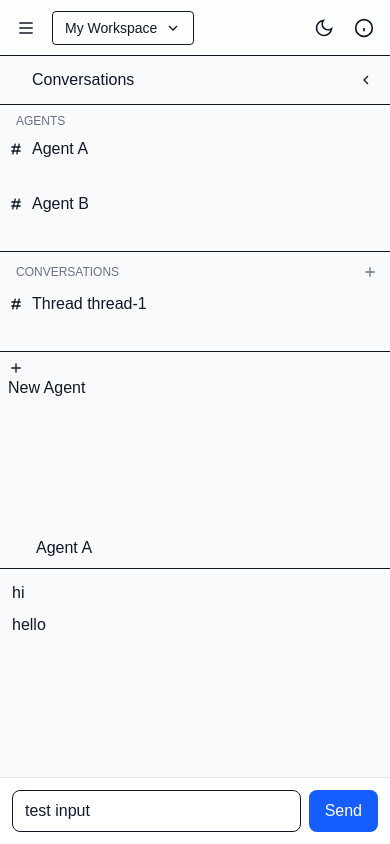
it: ChatPage › Mobile Drawer Navigation › opens details drawer when button clicked
This screenshot has width=390, height=844.
Click the button named "Open details" at point(364, 28), box [346,10,382,46]
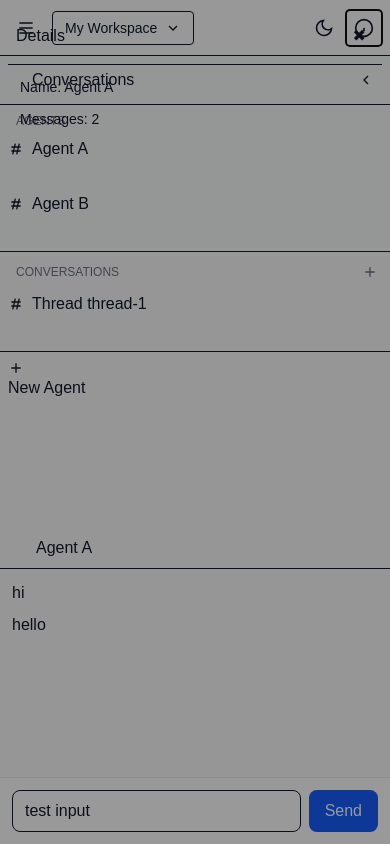
expect the dialog is shown: met
expect the dialog shows "Details": met, box [16,27,65,44]
